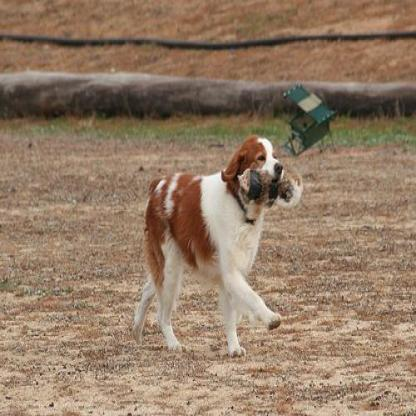Brittany_spaniel: (130, 132, 288, 358)
